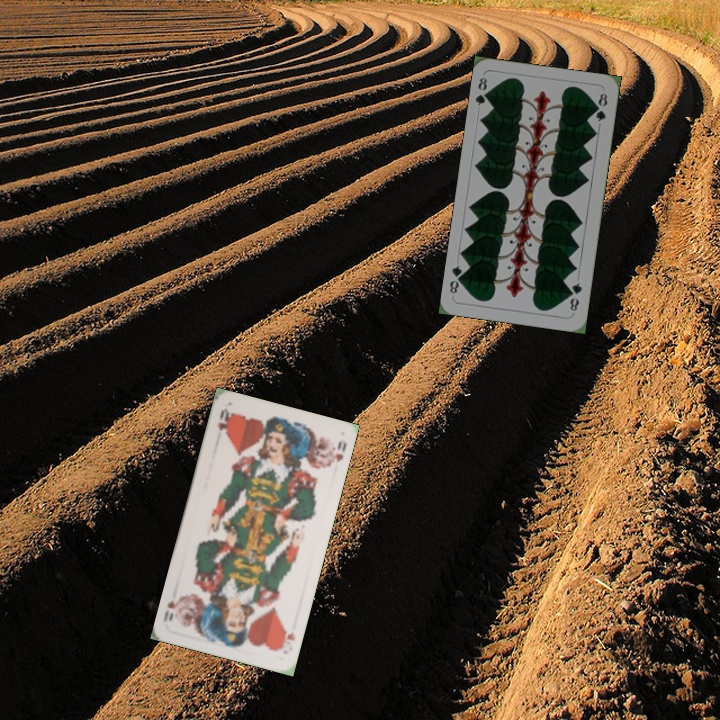G8: (471, 73, 493, 108), (566, 279, 585, 316)
HO: (275, 624, 297, 652), (213, 405, 232, 437)
